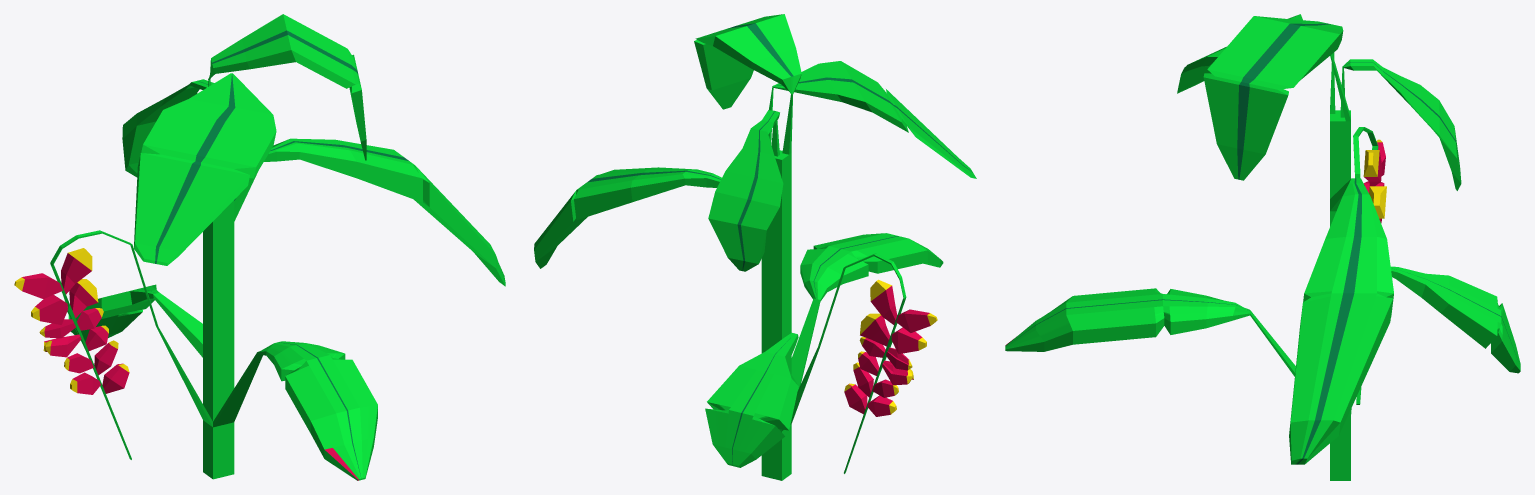
File: Heliconia_1.fbx
3 renders of one model, left to right at view 1: azimuth 30°, elevation 25°; view 2: azimuth 150°, elevation 25°; view 3: azimuth 270°, elevation 25°, orthographic. The views are drawn at different scales.
Visible parts, largest first — view 1: Cube; view 2: Cube; view 3: Cube.
Boxes of the visible parts, x1=… form: Cube: x1=14, y1=14, x2=505, y2=480; Cube: x1=534, y1=14, x2=976, y2=480; Cube: x1=1005, y1=14, x2=1520, y2=480.
Size of the model in its own units: 335 by 315 by 309.
